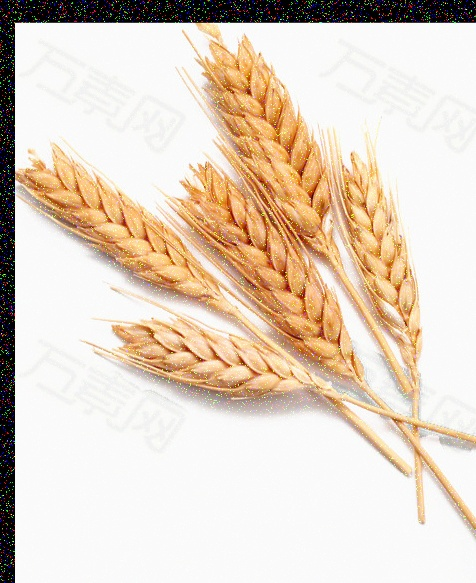wheat: (190, 25, 375, 328), (18, 138, 268, 338), (195, 171, 383, 404), (318, 139, 439, 403), (57, 303, 340, 395)
